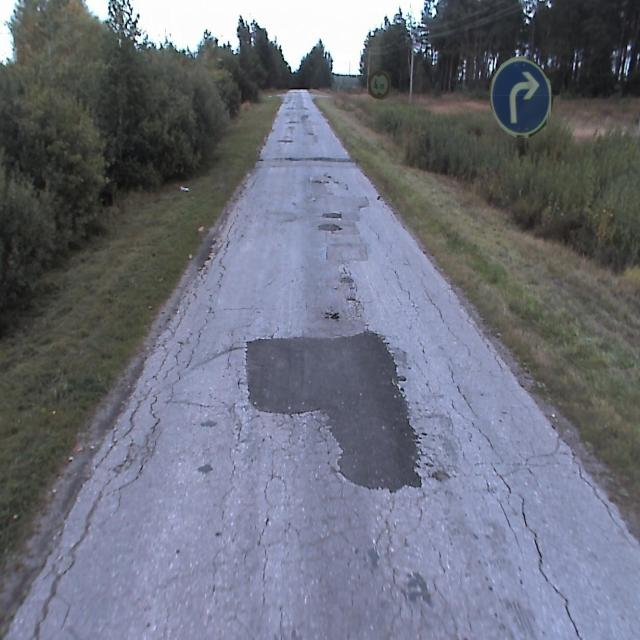road: (5, 92, 639, 639)
